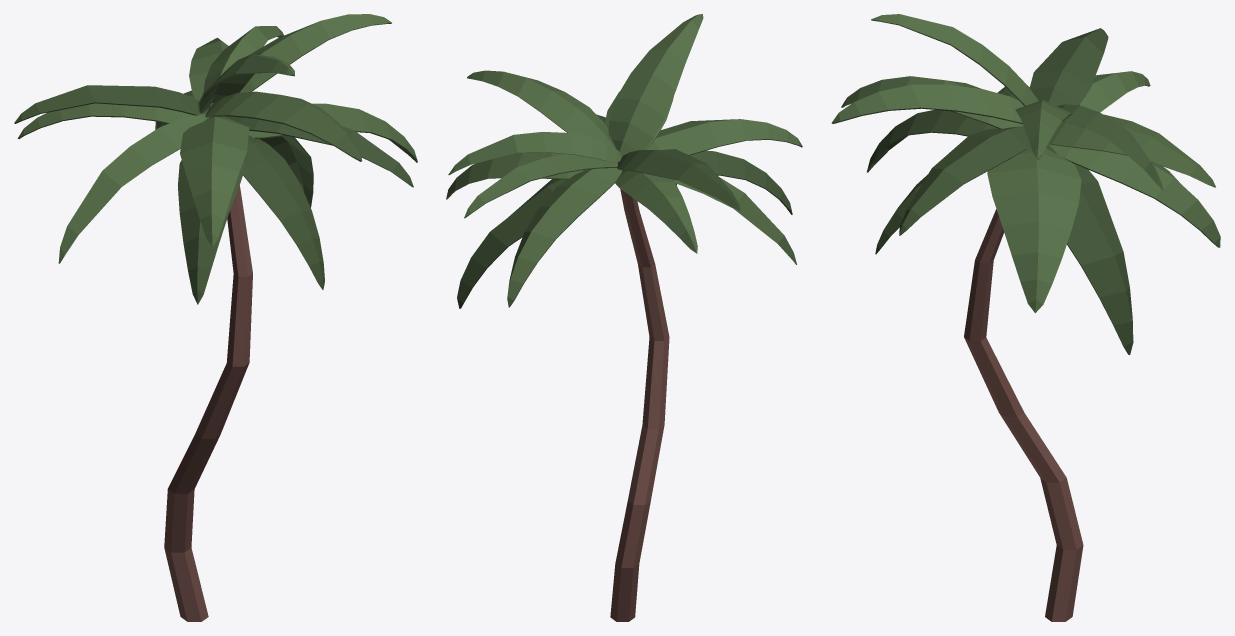
Rendered from palmtree_1.007.010_lev1.glb.
3 views of the same model, side by side, from view 1: azimuth 30°, elevation 25°; view 2: azimuth 150°, elevation 25°; view 3: azimuth 270°, elevation 25° (orthographic). The views are drawn at different scales.
Visible parts, largest first — view 1: palmtree_1.007.010_lev1; view 2: palmtree_1.007.010_lev1; view 3: palmtree_1.007.010_lev1.
Part boxes in pixels (x1,y1,x2,y2): palmtree_1.007.010_lev1: [14, 14, 417, 621]; palmtree_1.007.010_lev1: [446, 14, 802, 621]; palmtree_1.007.010_lev1: [831, 14, 1220, 621].
Size of the model in its own units: 9.44 by 14.67 by 8.56.
